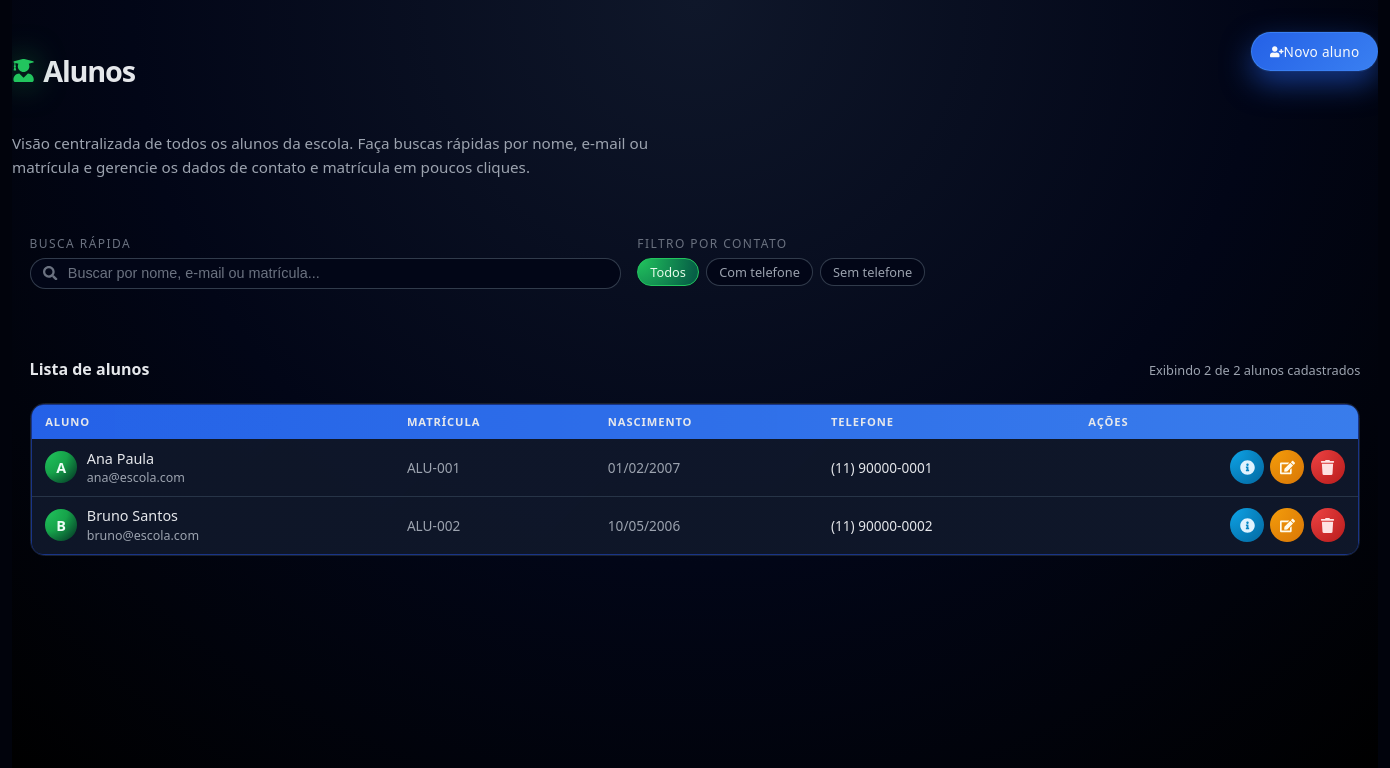
Test: StudentsPage (dashboard) › filtra alunos pelo campo de busca (nome, email ou matrícula)
The width and height of the screenshot is (1390, 768).
Note: filtra por nome
Type "Ana" into the field with placeholder "Buscar por nome, e-mail ou matrícula..." at [337, 273], box [66,264,608,282]
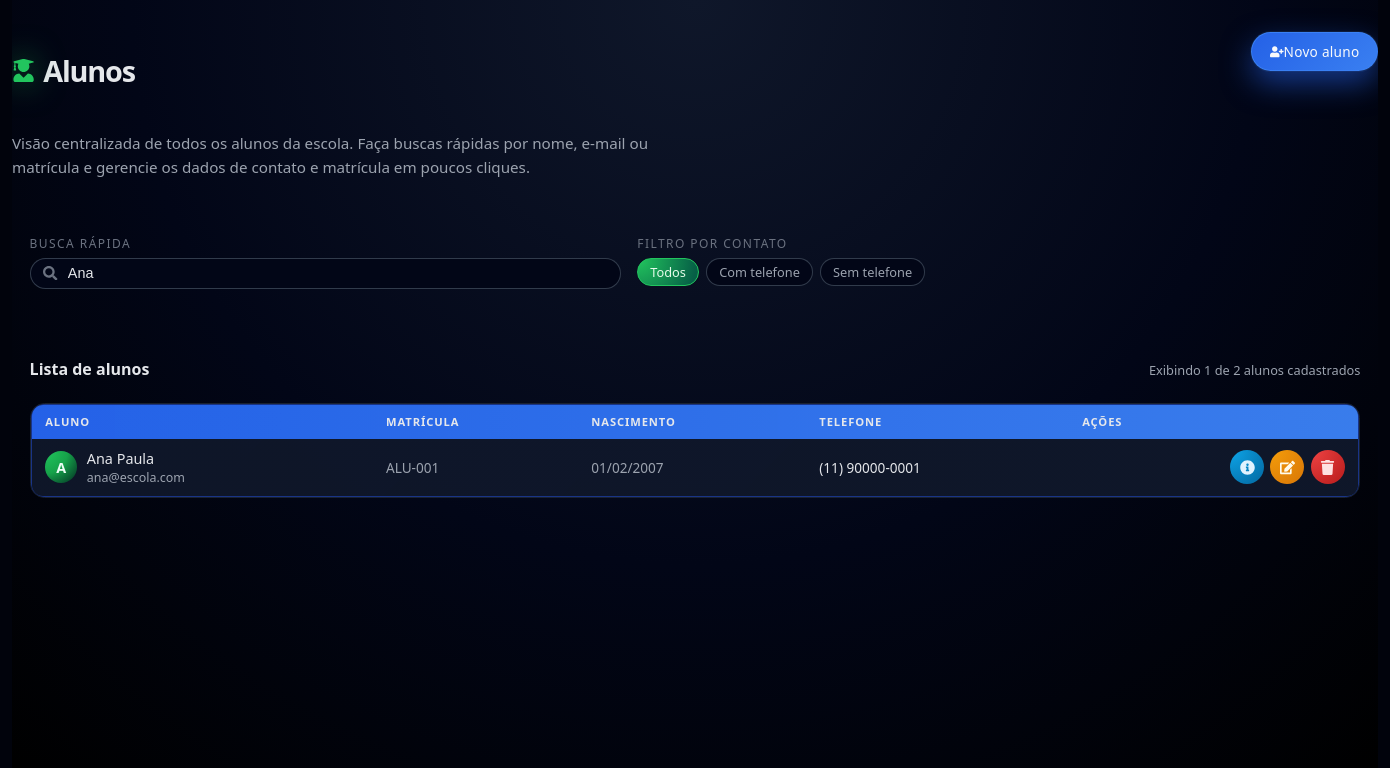
Expected: the text "Ana Paula" is shown, [87,449,154,468]
Now the text "Bruno Santos" is gone
Note: filtra por matrícula
Replace the text in the field with placeholder "Buscar por nome, e-mail ou matrícula..." with "ALU-002" at [337, 273], box [66,264,608,282]
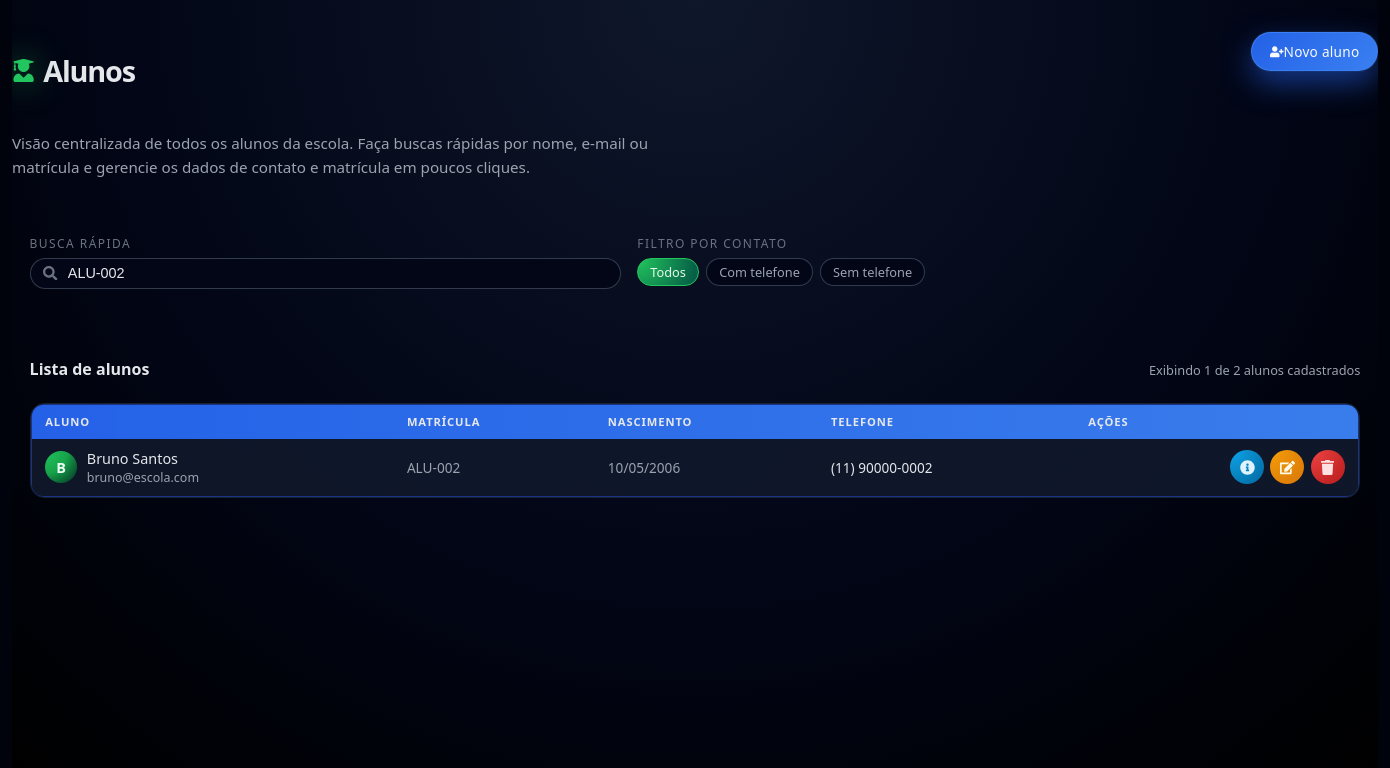
Now the text "Bruno Santos" is shown, box [87,449,178,468]
Now the text "Ana Paula" is gone
